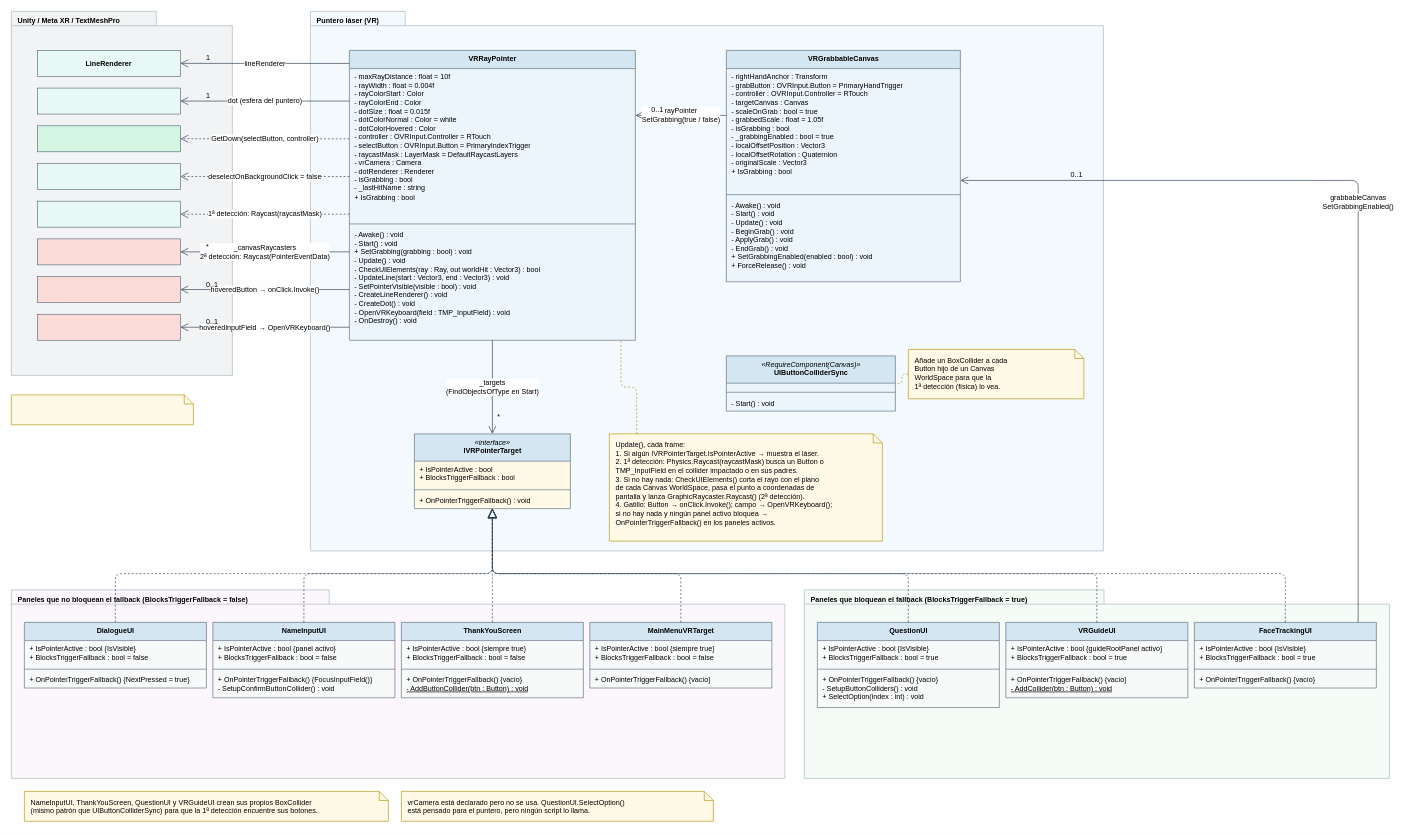
This 1405x833 diagram has some shape labels left out. Each missing label, with the centre of its shape:
Button: point 108,289
GameObject: point 108,100
GraphicRaycaster: point 108,251
InputSystemUIInputModule: point 108,176
OVRInput: point 108,138
Physics: point 108,214
TMP_InputField: point 108,327
Todas las clases, salvo la interfaz, heredan de MonoBehaviour.: point 102,409
